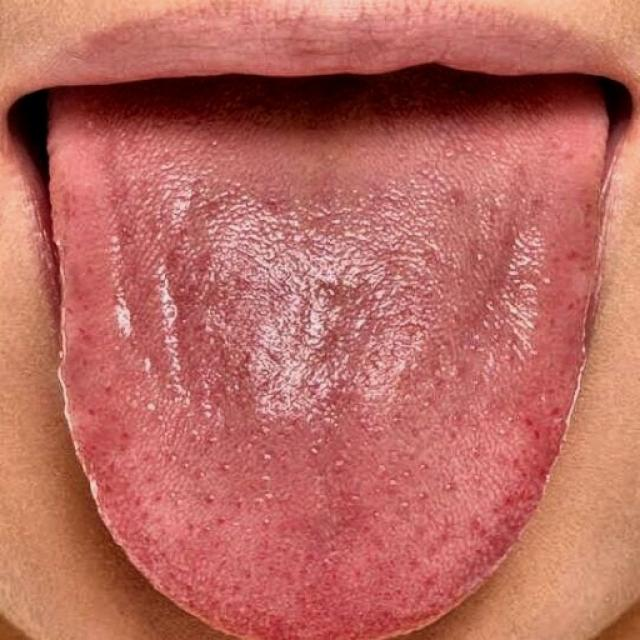processing_area: (50, 93, 608, 636)
